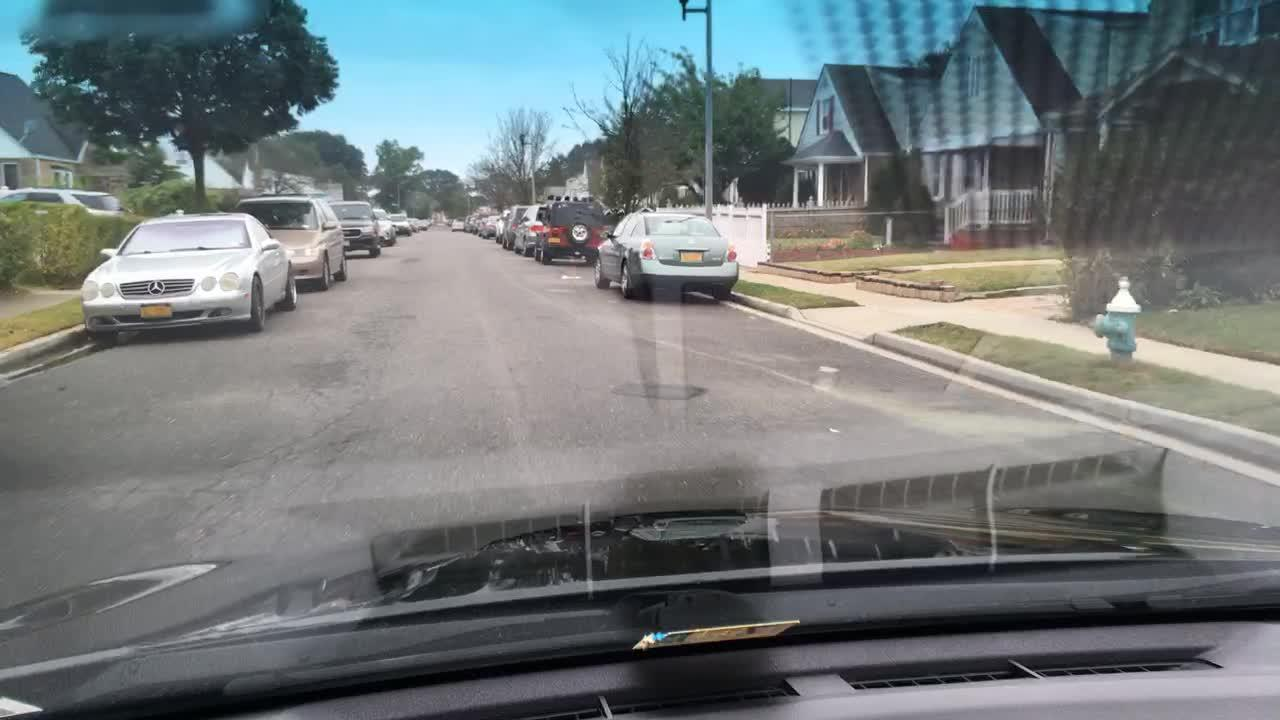Mercedes: (143, 276, 169, 301)
